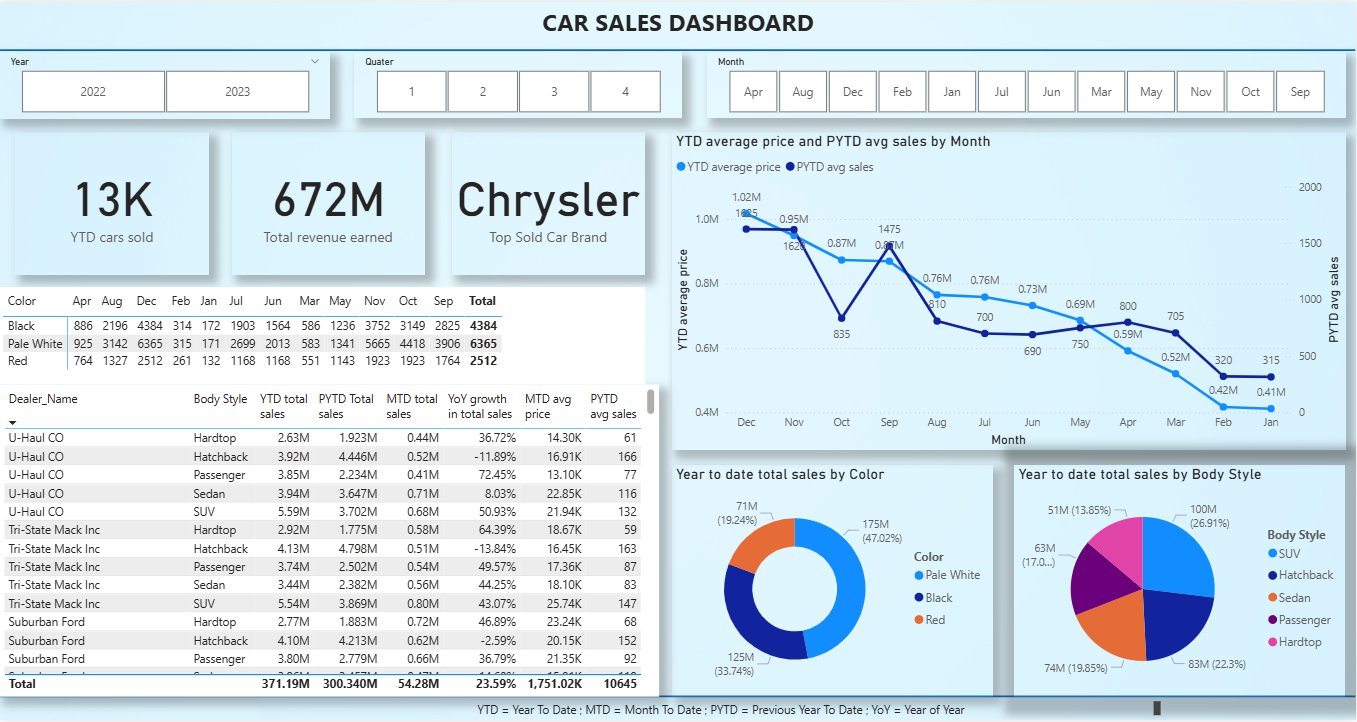

The dashboard page shown, as its layout file describes it:
{"tool":"powerbi","page":{"name":"Page 1","canvas":[1550,820],"ordinal":0},"visuals":[{"type":"shape","box":[0,0,1550,110],"z":0},{"type":"textbox","box":[10,0,1540,52.9],"z":1000},{"type":"slicer","fields":{"Values":["Calendar.Month"]},"box":[808.6,57.1,730,75.7],"z":2000},{"type":"slicer","fields":{"Values":["Calendar.Quater"]},"box":[405.7,57.1,374.3,75.7],"z":3000},{"type":"slicer","fields":{"Values":["Calendar.Year"]},"box":[0,57.1,378.6,75.7],"z":4000},{"type":"lineChart","fields":{"Y":["key measures.YTD average price"],"Category":["Calendar.Month"],"Y2":["key measures.PYTD avg sales"]},"box":[768.6,148.6,770,364.3],"z":5000},{"type":"shape","box":[0,767.1,1550,52.9],"z":6000},{"type":"pieChart","fields":{"Y":["key measures.Year to date total sales"],"Category":["car_data.Body Style"]},"box":[1160,528.6,378.6,265.7],"z":7000},{"type":"tableEx","fields":{"Values":["car_data.Dealer_Name","car_data.Body Style","key measures.Year to date total sales","key measures.PYTD Total sales","key measures.Month to date total sales","key measures.YoY growth in total sales","key measures.MTD average price","key measures.PYTD avg sales"]},"box":[0,437.1,754.3,357.1],"z":8000},{"type":"donutChart","fields":{"Y":["key measures.Year to date total sales"],"Category":["car_data.Color"]},"box":[768.6,528.6,367.1,265.7],"z":9000},{"type":"card","fields":{"Values":["key measures.YTD cars sold"]},"box":[18.3,149.1,221.4,162.9],"z":10000},{"type":"card","fields":{"Values":["key measures.Total revenue earned"]},"box":[265.4,149.1,221.4,162.9],"z":11000},{"type":"card","fields":{"Values":["key measures.Top company"]},"box":[516.9,149.1,221.4,162.9],"z":12000},{"type":"pivotTable","fields":{"Rows":["car_data.Color"],"Columns":["Calendar.Month"],"Values":["key measures.YTD cars sold"]},"box":[0,325.7,738.6,111.4],"z":13000},{"type":"textbox","box":[297.1,794.3,1035.7,25.7],"z":14000}]}

Visuals, with their boxes in screenshot pixels (x1, y1, x2, y2), scaled from the page's 1550x820 canvas onto the 1357x722 screenshot:
shape: left=0, top=0, right=1356, bottom=97
textbox: left=9, top=0, right=1356, bottom=47
slicer - Calendar.Month: left=708, top=50, right=1347, bottom=117
slicer - Calendar.Quater: left=355, top=50, right=683, bottom=117
slicer - Calendar.Year: left=0, top=50, right=331, bottom=117
lineChart - key measures.YTD average price x Calendar.Month: left=673, top=131, right=1347, bottom=452
shape: left=0, top=675, right=1356, bottom=721
pieChart - key measures.Year to date total sales x car_data.Body Style: left=1016, top=465, right=1347, bottom=699
tableEx - car_data.Dealer_Name x car_data.Body Style: left=0, top=385, right=660, bottom=699
donutChart - key measures.Year to date total sales x car_data.Color: left=673, top=465, right=994, bottom=699
card - key measures.YTD cars sold: left=16, top=131, right=210, bottom=275
card - key measures.Total revenue earned: left=232, top=131, right=426, bottom=275
card - key measures.Top company: left=453, top=131, right=646, bottom=275
pivotTable - car_data.Color x Calendar.Month: left=0, top=287, right=647, bottom=385
textbox: left=260, top=699, right=1167, bottom=721
